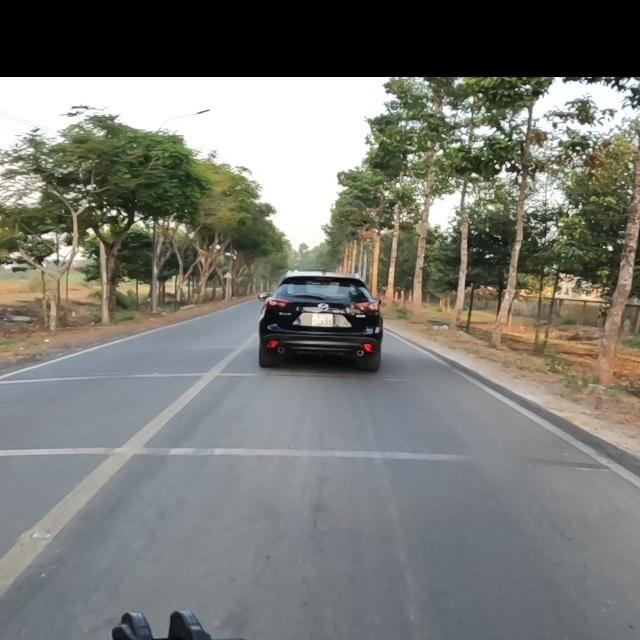license-plate: (309, 312, 335, 327)
